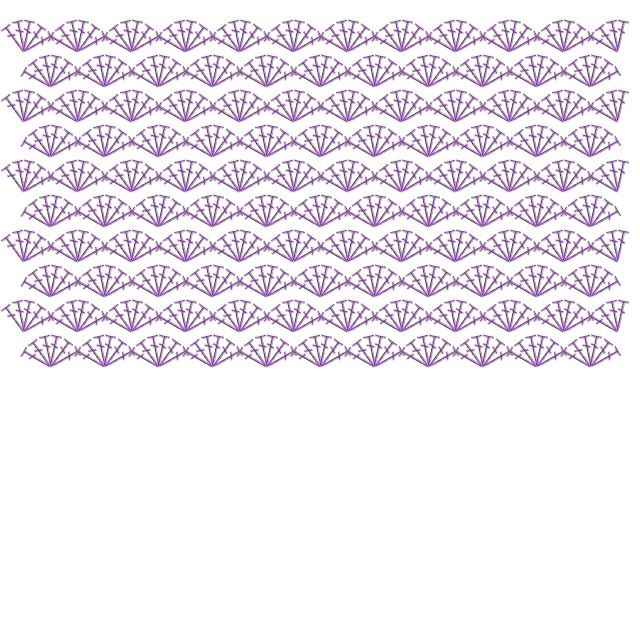double treble: (0, 22, 28, 55), (20, 22, 48, 55), (54, 22, 82, 55), (74, 22, 102, 55), (108, 22, 136, 55), (128, 22, 156, 55), (162, 22, 190, 55), (182, 22, 210, 55), (216, 22, 244, 55), (236, 22, 264, 55), (270, 22, 298, 55), (290, 22, 318, 55), (324, 22, 352, 55), (344, 22, 372, 55), (378, 22, 406, 55), (398, 22, 426, 55), (432, 22, 460, 55), (452, 22, 480, 55), (486, 22, 514, 55), (506, 22, 534, 55), (540, 22, 568, 55), (560, 22, 588, 55), (594, 22, 622, 55), (27, 57, 55, 90), (47, 57, 75, 90), (81, 57, 109, 90), (101, 57, 129, 90), (135, 57, 163, 90), (155, 57, 183, 90), (189, 57, 217, 90), (209, 57, 237, 90), (243, 57, 271, 90), (263, 57, 291, 90), (297, 57, 325, 90), (317, 57, 345, 90), (351, 57, 379, 90), (371, 57, 399, 90), (405, 57, 433, 90), (425, 57, 453, 90), (459, 57, 487, 90), (479, 57, 507, 90), (513, 57, 541, 90), (533, 57, 561, 90), (567, 57, 595, 90), (587, 57, 615, 90), (0, 92, 28, 125), (20, 92, 48, 125), (54, 92, 82, 125), (74, 92, 102, 125), (108, 92, 136, 125), (128, 92, 156, 125), (162, 92, 190, 125), (182, 92, 210, 125), (216, 92, 244, 125), (236, 92, 264, 125), (270, 92, 298, 125), (290, 92, 318, 125), (324, 92, 352, 125), (344, 92, 372, 125), (378, 92, 406, 125), (398, 92, 426, 125), (432, 92, 460, 125), (452, 92, 480, 125), (486, 92, 514, 125), (506, 92, 534, 125), (540, 92, 568, 125), (560, 92, 588, 125), (594, 92, 622, 125), (27, 127, 55, 160), (47, 127, 75, 160), (81, 127, 109, 160), (101, 127, 129, 160), (135, 127, 163, 160), (155, 127, 183, 160), (189, 127, 217, 160), (209, 127, 237, 160), (243, 127, 271, 160), (263, 127, 291, 160), (297, 127, 325, 160), (317, 127, 345, 160), (351, 127, 379, 160), (371, 127, 399, 160), (405, 127, 433, 160), (425, 127, 453, 160), (459, 127, 487, 160), (479, 127, 507, 160), (513, 127, 541, 160), (533, 127, 561, 160), (567, 127, 595, 160), (587, 127, 615, 160), (0, 162, 28, 195), (20, 162, 48, 195), (54, 162, 82, 195), (74, 162, 102, 195), (108, 162, 136, 195), (128, 162, 156, 195), (162, 162, 190, 195), (182, 162, 210, 195), (216, 162, 244, 195), (236, 162, 264, 195), (270, 162, 298, 195), (290, 162, 318, 195), (324, 162, 352, 195), (344, 162, 372, 195), (378, 162, 406, 195), (398, 162, 426, 195), (432, 162, 460, 195), (452, 162, 480, 195), (486, 162, 514, 195), (506, 162, 534, 195), (540, 162, 568, 195), (560, 162, 588, 195), (594, 162, 622, 195), (27, 197, 55, 230), (47, 197, 75, 230), (81, 197, 109, 230), (101, 197, 129, 230), (135, 197, 163, 230), (155, 197, 183, 230), (189, 197, 217, 230), (209, 197, 237, 230), (243, 197, 271, 230), (263, 197, 291, 230), (297, 197, 325, 230), (317, 197, 345, 230), (351, 197, 379, 230), (371, 197, 399, 230), (405, 197, 433, 230), (425, 197, 453, 230), (459, 197, 487, 230), (479, 197, 507, 230), (513, 197, 541, 230), (533, 197, 561, 230), (567, 197, 595, 230), (587, 197, 615, 230), (0, 232, 28, 265), (20, 232, 48, 265), (54, 232, 82, 265), (74, 232, 102, 265), (108, 232, 136, 265), (128, 232, 156, 265), (162, 232, 190, 265), (182, 232, 210, 265), (216, 232, 244, 265), (236, 232, 264, 265), (270, 232, 298, 265), (290, 232, 318, 265), (324, 232, 352, 265), (344, 232, 372, 265), (378, 232, 406, 265), (398, 232, 426, 265), (432, 232, 460, 265), (452, 232, 480, 265), (486, 232, 514, 265), (506, 232, 534, 265), (540, 232, 568, 265), (560, 232, 588, 265), (594, 232, 622, 265), (27, 267, 55, 300), (47, 267, 75, 300), (81, 267, 109, 300), (101, 267, 129, 300), (135, 267, 163, 300), (155, 267, 183, 300), (189, 267, 217, 300), (209, 267, 237, 300), (243, 267, 271, 300), (263, 267, 291, 300), (297, 267, 325, 300), (317, 267, 345, 300), (351, 267, 379, 300), (371, 267, 399, 300), (405, 267, 433, 300), (425, 267, 453, 300), (459, 267, 487, 300), (479, 267, 507, 300), (513, 267, 541, 300), (533, 267, 561, 300), (567, 267, 595, 300), (587, 267, 615, 300), (0, 302, 28, 335), (20, 302, 48, 335), (54, 302, 82, 335), (74, 302, 102, 335), (108, 302, 136, 335), (128, 302, 156, 335), (162, 302, 190, 335), (182, 302, 210, 335), (216, 302, 244, 335), (236, 302, 264, 335), (270, 302, 298, 335), (290, 302, 318, 335), (324, 302, 352, 335), (344, 302, 372, 335), (378, 302, 406, 335), (398, 302, 426, 335), (432, 302, 460, 335), (452, 302, 480, 335), (486, 302, 514, 335), (506, 302, 534, 335), (540, 302, 568, 335), (560, 302, 588, 335), (594, 302, 622, 335), (27, 337, 55, 370), (47, 337, 75, 370), (81, 337, 109, 370), (101, 337, 129, 370), (135, 337, 163, 370), (155, 337, 183, 370), (189, 337, 217, 370), (209, 337, 237, 370), (243, 337, 271, 370), (263, 337, 291, 370), (297, 337, 325, 370), (317, 337, 345, 370), (351, 337, 379, 370), (371, 337, 399, 370), (405, 337, 433, 370), (425, 337, 453, 370), (459, 337, 487, 370), (479, 337, 507, 370), (513, 337, 541, 370), (533, 337, 561, 370), (567, 337, 595, 370), (587, 337, 615, 370), (21, 31, 55, 57), (47, 31, 81, 57), (75, 31, 109, 57), (101, 31, 135, 57), (129, 31, 163, 57), (155, 31, 189, 57), (183, 31, 217, 57), (209, 31, 243, 57), (237, 31, 271, 57), (263, 31, 297, 57), (291, 31, 325, 57), (317, 31, 351, 57), (345, 31, 379, 57), (371, 31, 405, 57), (399, 31, 433, 57), (425, 31, 459, 57), (453, 31, 487, 57), (479, 31, 513, 57), (507, 31, 541, 57), (533, 31, 567, 57), (561, 31, 595, 57), (587, 31, 621, 57), (20, 66, 54, 92), (48, 66, 82, 92), (74, 66, 108, 92), (102, 66, 136, 92), (128, 66, 162, 92), (156, 66, 190, 92), (182, 66, 216, 92), (210, 66, 244, 92), (236, 66, 270, 92), (264, 66, 298, 92), (290, 66, 324, 92), (318, 66, 352, 92), (344, 66, 378, 92), (372, 66, 406, 92), (398, 66, 432, 92), (426, 66, 460, 92), (452, 66, 486, 92), (480, 66, 514, 92), (506, 66, 540, 92), (534, 66, 568, 92), (560, 66, 594, 92), (588, 66, 622, 92), (21, 101, 55, 127), (47, 101, 81, 127), (75, 101, 109, 127), (101, 101, 135, 127), (129, 101, 163, 127), (155, 101, 189, 127), (183, 101, 217, 127), (209, 101, 243, 127), (237, 101, 271, 127), (263, 101, 297, 127), (291, 101, 325, 127), (317, 101, 351, 127), (345, 101, 379, 127), (371, 101, 405, 127), (399, 101, 433, 127), (425, 101, 459, 127), (453, 101, 487, 127), (479, 101, 513, 127), (507, 101, 541, 127), (533, 101, 567, 127), (561, 101, 595, 127), (587, 101, 621, 127), (20, 136, 54, 162), (48, 136, 82, 162), (74, 136, 108, 162), (102, 136, 136, 162), (128, 136, 162, 162), (156, 136, 190, 162), (182, 136, 216, 162), (210, 136, 244, 162), (236, 136, 270, 162), (264, 136, 298, 162), (290, 136, 324, 162), (318, 136, 352, 162), (344, 136, 378, 162), (372, 136, 406, 162), (398, 136, 432, 162), (426, 136, 460, 162), (452, 136, 486, 162), (480, 136, 514, 162), (506, 136, 540, 162), (534, 136, 568, 162), (560, 136, 594, 162), (588, 136, 622, 162), (21, 171, 55, 197), (47, 171, 81, 197), (75, 171, 109, 197), (101, 171, 135, 197), (129, 171, 163, 197), (155, 171, 189, 197), (183, 171, 217, 197), (209, 171, 243, 197), (237, 171, 271, 197), (263, 171, 297, 197), (291, 171, 325, 197), (317, 171, 351, 197), (345, 171, 379, 197), (371, 171, 405, 197), (399, 171, 433, 197), (425, 171, 459, 197), (453, 171, 487, 197), (479, 171, 513, 197), (507, 171, 541, 197), (533, 171, 567, 197), (561, 171, 595, 197), (587, 171, 621, 197), (20, 206, 54, 232), (48, 206, 82, 232), (74, 206, 108, 232), (102, 206, 136, 232), (128, 206, 162, 232), (156, 206, 190, 232), (182, 206, 216, 232), (210, 206, 244, 232), (236, 206, 270, 232), (264, 206, 298, 232), (290, 206, 324, 232), (318, 206, 352, 232), (344, 206, 378, 232), (372, 206, 406, 232), (398, 206, 432, 232), (426, 206, 460, 232), (452, 206, 486, 232), (480, 206, 514, 232), (506, 206, 540, 232), (534, 206, 568, 232), (560, 206, 594, 232), (588, 206, 622, 232), (21, 241, 55, 267), (47, 241, 81, 267), (75, 241, 109, 267), (101, 241, 135, 267), (129, 241, 163, 267), (155, 241, 189, 267), (183, 241, 217, 267), (209, 241, 243, 267), (237, 241, 271, 267), (263, 241, 297, 267), (291, 241, 325, 267), (317, 241, 351, 267), (345, 241, 379, 267), (371, 241, 405, 267), (399, 241, 433, 267), (425, 241, 459, 267), (453, 241, 487, 267), (479, 241, 513, 267), (507, 241, 541, 267), (533, 241, 567, 267), (561, 241, 595, 267), (587, 241, 621, 267), (20, 276, 54, 302), (48, 276, 82, 302), (74, 276, 108, 302), (102, 276, 136, 302), (128, 276, 162, 302), (156, 276, 190, 302), (182, 276, 216, 302), (210, 276, 244, 302), (236, 276, 270, 302), (264, 276, 298, 302), (290, 276, 324, 302), (318, 276, 352, 302), (344, 276, 378, 302), (372, 276, 406, 302), (398, 276, 432, 302), (426, 276, 460, 302), (452, 276, 486, 302), (480, 276, 514, 302), (506, 276, 540, 302), (534, 276, 568, 302), (560, 276, 594, 302), (588, 276, 622, 302), (21, 311, 55, 337), (47, 311, 81, 337), (75, 311, 109, 337), (101, 311, 135, 337), (129, 311, 163, 337), (155, 311, 189, 337), (183, 311, 217, 337), (209, 311, 243, 337), (237, 311, 271, 337), (263, 311, 297, 337), (291, 311, 325, 337), (317, 311, 351, 337), (345, 311, 379, 337), (371, 311, 405, 337), (399, 311, 433, 337), (425, 311, 459, 337), (453, 311, 487, 337), (479, 311, 513, 337), (507, 311, 541, 337), (533, 311, 567, 337), (561, 311, 595, 337), (587, 311, 621, 337), (20, 346, 54, 372), (48, 346, 82, 372), (74, 346, 108, 372), (102, 346, 136, 372), (128, 346, 162, 372), (156, 346, 190, 372), (182, 346, 216, 372), (210, 346, 244, 372), (236, 346, 270, 372), (264, 346, 298, 372), (290, 346, 324, 372), (318, 346, 352, 372), (344, 346, 378, 372), (372, 346, 406, 372), (398, 346, 432, 372), (426, 346, 460, 372), (452, 346, 486, 372), (480, 346, 514, 372), (506, 346, 540, 372), (534, 346, 568, 372), (560, 346, 594, 372), (588, 346, 622, 372), (12, 19, 29, 53), (19, 19, 36, 53), (66, 19, 83, 53), (73, 19, 90, 53), (120, 19, 137, 53), (127, 19, 144, 53), (174, 19, 191, 53), (181, 19, 198, 53), (228, 19, 245, 53), (235, 19, 252, 53), (282, 19, 299, 53), (289, 19, 306, 53), (336, 19, 353, 53), (343, 19, 360, 53), (390, 19, 407, 53), (397, 19, 414, 53), (444, 19, 461, 53), (451, 19, 468, 53), (498, 19, 515, 53), (505, 19, 522, 53), (552, 19, 569, 53), (559, 19, 576, 53), (606, 19, 623, 53), (613, 19, 630, 53), (39, 54, 56, 88), (46, 54, 63, 88), (93, 54, 110, 88), (100, 54, 117, 88), (147, 54, 164, 88), (154, 54, 171, 88), (201, 54, 218, 88), (208, 54, 225, 88), (255, 54, 272, 88), (262, 54, 279, 88), (309, 54, 326, 88), (316, 54, 333, 88), (363, 54, 380, 88), (370, 54, 387, 88), (417, 54, 434, 88), (424, 54, 441, 88), (471, 54, 488, 88), (478, 54, 495, 88), (525, 54, 542, 88), (532, 54, 549, 88), (579, 54, 596, 88), (586, 54, 603, 88), (12, 89, 29, 123), (19, 89, 36, 123), (66, 89, 83, 123), (73, 89, 90, 123), (120, 89, 137, 123), (127, 89, 144, 123), (174, 89, 191, 123), (181, 89, 198, 123), (228, 89, 245, 123), (235, 89, 252, 123), (282, 89, 299, 123), (289, 89, 306, 123), (336, 89, 353, 123), (343, 89, 360, 123), (390, 89, 407, 123), (397, 89, 414, 123), (444, 89, 461, 123), (451, 89, 468, 123), (498, 89, 515, 123), (505, 89, 522, 123), (552, 89, 569, 123), (559, 89, 576, 123), (606, 89, 623, 123), (613, 89, 630, 123), (39, 124, 56, 158), (46, 124, 63, 158), (93, 124, 110, 158), (100, 124, 117, 158), (147, 124, 164, 158), (154, 124, 171, 158), (201, 124, 218, 158), (208, 124, 225, 158), (255, 124, 272, 158), (262, 124, 279, 158), (309, 124, 326, 158), (316, 124, 333, 158), (363, 124, 380, 158), (370, 124, 387, 158), (417, 124, 434, 158), (424, 124, 441, 158), (471, 124, 488, 158), (478, 124, 495, 158), (525, 124, 542, 158), (532, 124, 549, 158), (579, 124, 596, 158), (586, 124, 603, 158), (12, 159, 29, 193), (19, 159, 36, 193), (66, 159, 83, 193), (73, 159, 90, 193), (120, 159, 137, 193), (127, 159, 144, 193), (174, 159, 191, 193), (181, 159, 198, 193), (228, 159, 245, 193), (235, 159, 252, 193), (282, 159, 299, 193), (289, 159, 306, 193), (336, 159, 353, 193), (343, 159, 360, 193), (390, 159, 407, 193), (397, 159, 414, 193), (444, 159, 461, 193), (451, 159, 468, 193), (498, 159, 515, 193), (505, 159, 522, 193), (552, 159, 569, 193), (559, 159, 576, 193), (606, 159, 623, 193), (613, 159, 630, 193), (39, 194, 56, 228), (46, 194, 63, 228), (93, 194, 110, 228), (100, 194, 117, 228), (147, 194, 164, 228), (154, 194, 171, 228), (201, 194, 218, 228), (208, 194, 225, 228), (255, 194, 272, 228), (262, 194, 279, 228), (309, 194, 326, 228), (316, 194, 333, 228), (363, 194, 380, 228), (370, 194, 387, 228), (417, 194, 434, 228), (424, 194, 441, 228), (471, 194, 488, 228), (478, 194, 495, 228), (525, 194, 542, 228), (532, 194, 549, 228), (579, 194, 596, 228), (586, 194, 603, 228), (12, 229, 29, 263), (19, 229, 36, 263), (66, 229, 83, 263), (73, 229, 90, 263), (120, 229, 137, 263), (127, 229, 144, 263), (174, 229, 191, 263), (181, 229, 198, 263), (228, 229, 245, 263), (235, 229, 252, 263), (282, 229, 299, 263), (289, 229, 306, 263), (336, 229, 353, 263), (343, 229, 360, 263), (390, 229, 407, 263), (397, 229, 414, 263), (444, 229, 461, 263), (451, 229, 468, 263), (498, 229, 515, 263), (505, 229, 522, 263), (552, 229, 569, 263), (559, 229, 576, 263), (606, 229, 623, 263), (613, 229, 630, 263), (39, 264, 56, 298), (46, 264, 63, 298), (93, 264, 110, 298), (100, 264, 117, 298), (147, 264, 164, 298), (154, 264, 171, 298), (201, 264, 218, 298), (208, 264, 225, 298), (255, 264, 272, 298), (262, 264, 279, 298), (309, 264, 326, 298), (316, 264, 333, 298), (363, 264, 380, 298), (370, 264, 387, 298), (417, 264, 434, 298), (424, 264, 441, 298), (471, 264, 488, 298), (478, 264, 495, 298), (525, 264, 542, 298), (532, 264, 549, 298), (579, 264, 596, 298), (586, 264, 603, 298), (12, 299, 29, 333), (19, 299, 36, 333), (66, 299, 83, 333), (73, 299, 90, 333), (120, 299, 137, 333), (127, 299, 144, 333), (174, 299, 191, 333), (181, 299, 198, 333), (228, 299, 245, 333), (235, 299, 252, 333), (282, 299, 299, 333), (289, 299, 306, 333), (336, 299, 353, 333), (343, 299, 360, 333), (390, 299, 407, 333), (397, 299, 414, 333), (444, 299, 461, 333), (451, 299, 468, 333), (498, 299, 515, 333), (505, 299, 522, 333), (552, 299, 569, 333), (559, 299, 576, 333), (606, 299, 623, 333), (613, 299, 630, 333), (39, 334, 56, 368), (46, 334, 63, 368), (93, 334, 110, 368), (100, 334, 117, 368), (147, 334, 164, 368), (154, 334, 171, 368), (201, 334, 218, 368), (208, 334, 225, 368), (255, 334, 272, 368), (262, 334, 279, 368), (309, 334, 326, 368), (316, 334, 333, 368), (363, 334, 380, 368), (370, 334, 387, 368), (417, 334, 434, 368), (424, 334, 441, 368), (471, 334, 488, 368), (478, 334, 495, 368), (525, 334, 542, 368), (532, 334, 549, 368), (579, 334, 596, 368), (586, 334, 603, 368)
